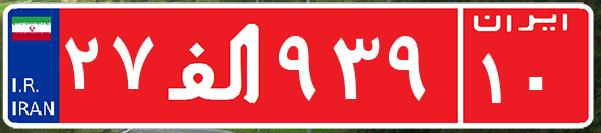0: (525, 38, 570, 115)
1: (475, 38, 525, 113)
2: (57, 26, 110, 107)
3: (330, 28, 385, 110)
7: (110, 28, 158, 105)
9: (385, 28, 445, 110), (273, 28, 330, 110)
الف: (158, 15, 273, 115)
